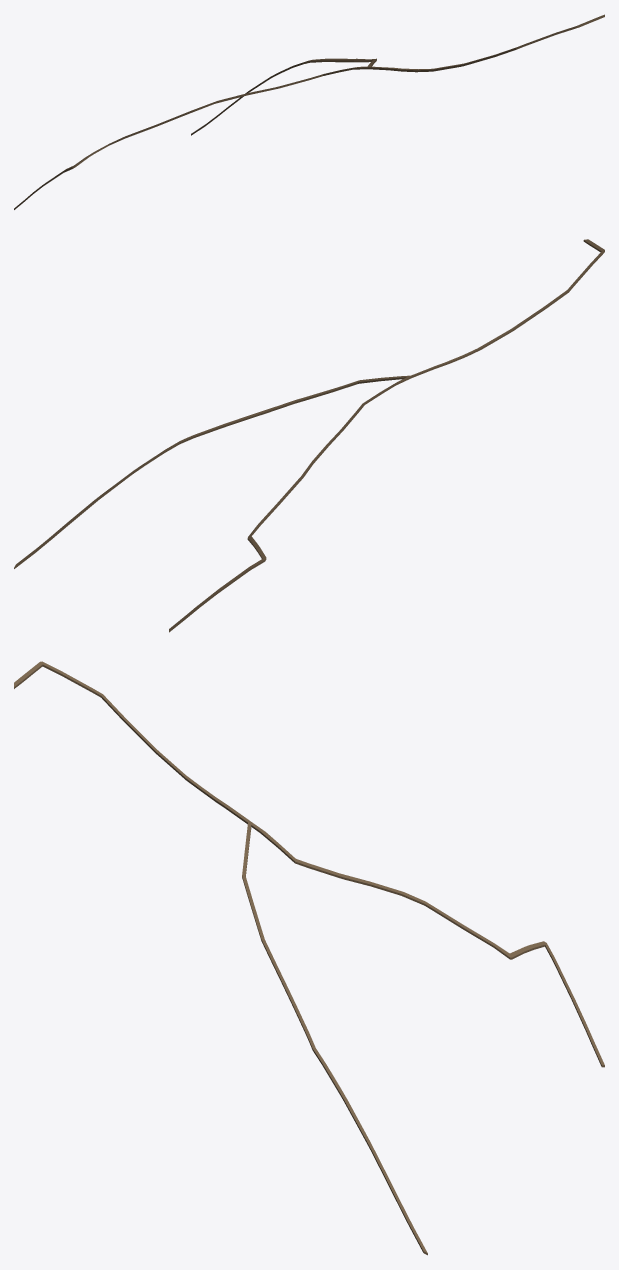
3 views of the same model, one above another, from view 1: azimuth 90°, elevation 25°; view 2: azimuth 150°, elevation 25°; view 3: azimuth 270°, elevation 25° (orthographic). The views are drawn at different scales.
Size of the model in its own units: 186 by 126 by 192.
